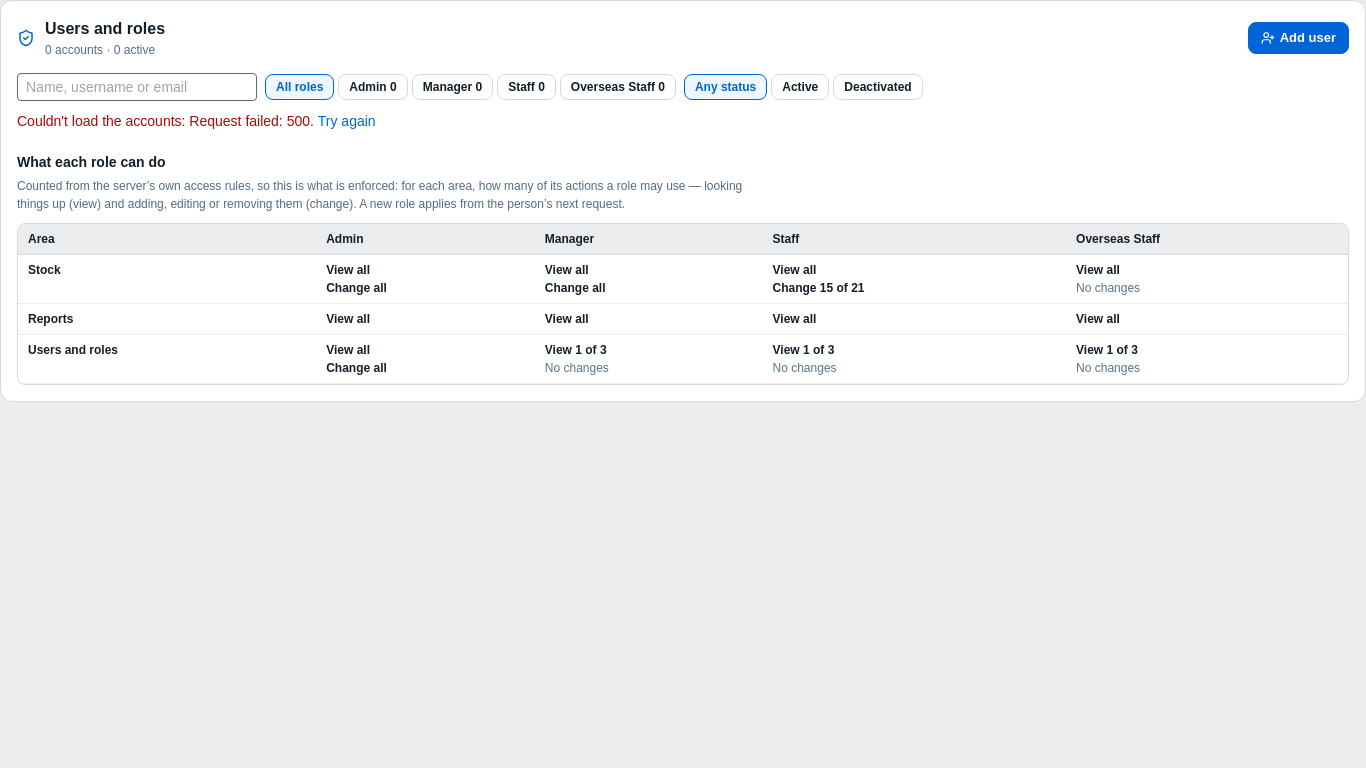
the list › says so when the accounts cannot be loaded, and offers to try again
The image size is (1366, 768).
Click the button "Try again". click: (347, 122)
box: [318,111,376,132]
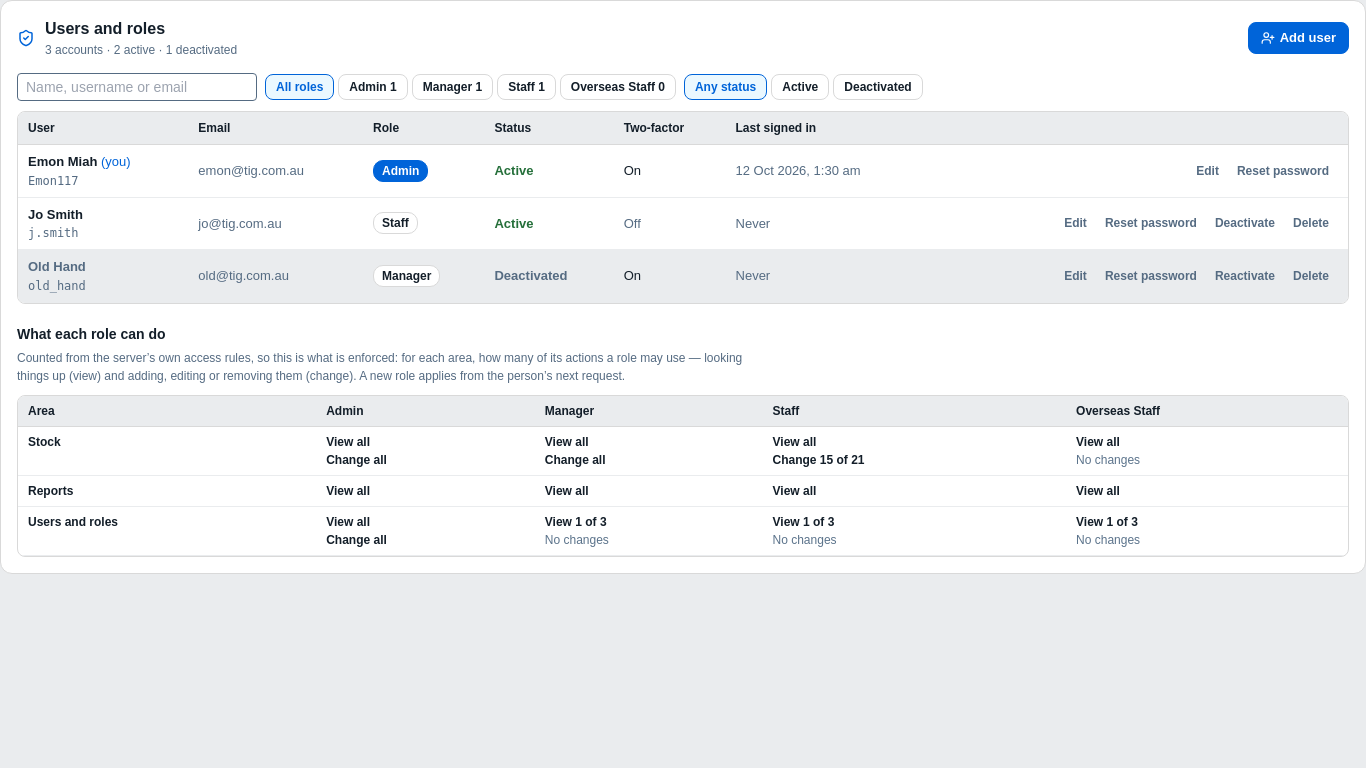
Result: the text "Jo Smith" is shown at [28,206,83,222]
